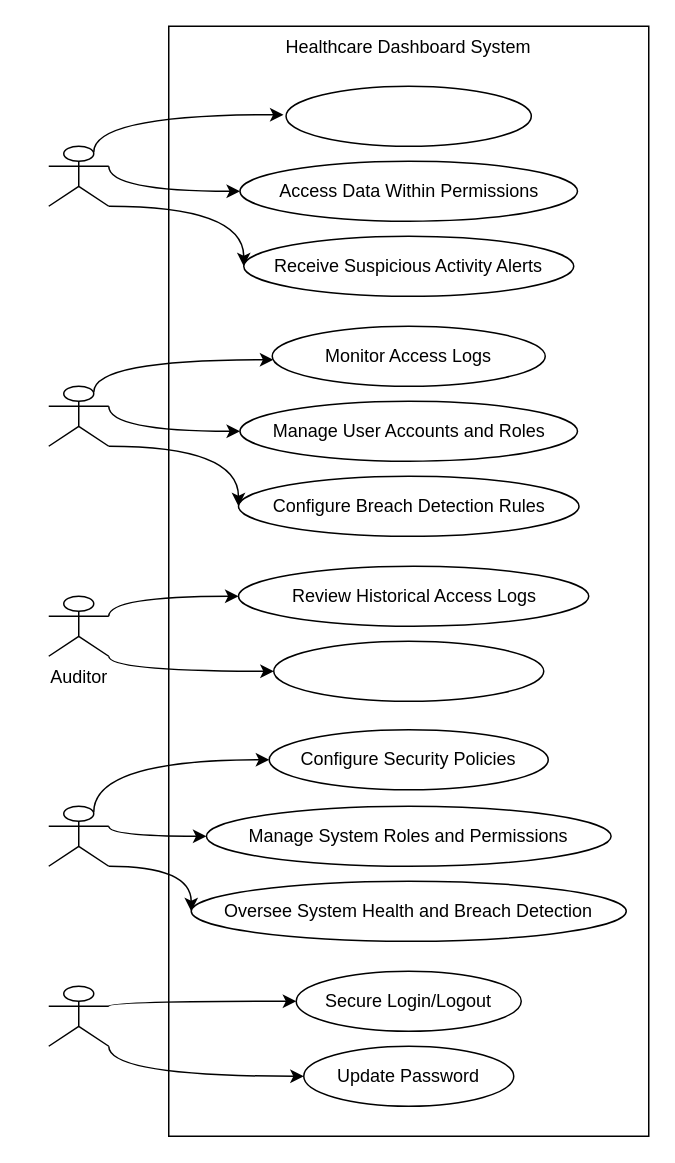
The diagram is 675 pixels wide and 1163 high, and some of its shapes have lost their labels. Here are the shapes that lost their labels. From the top down, the centre of each, then its label:
the point at 408,115: View Anonymised Data
the point at 78,175: Clinician
the point at 78,415: Administrator
the point at 408,670: Generate Audit Reports
the point at 78,835: SuperAdmin
the point at 78,1015: AllUsers
